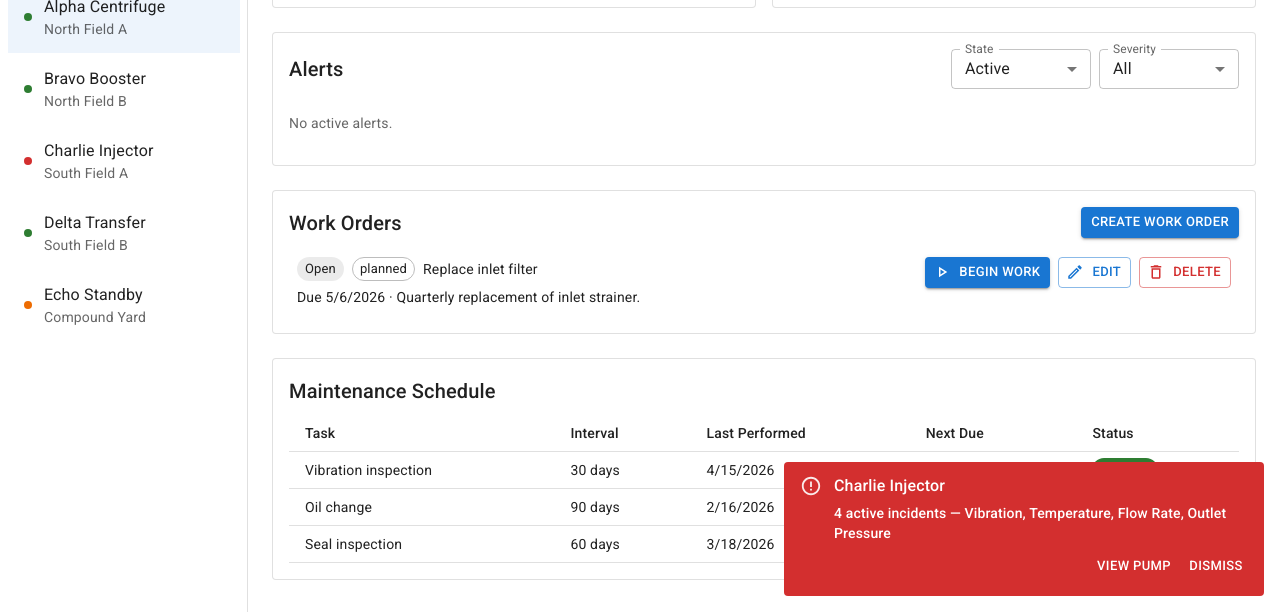
Test: Fleet integration › deletes a work order through the confirm dialog
(page scrolled)
What coordinates should you click on to do the following:
click the button named "delete-"
I would click on:
 (1185, 272)
Its box is [1139, 257, 1231, 288].
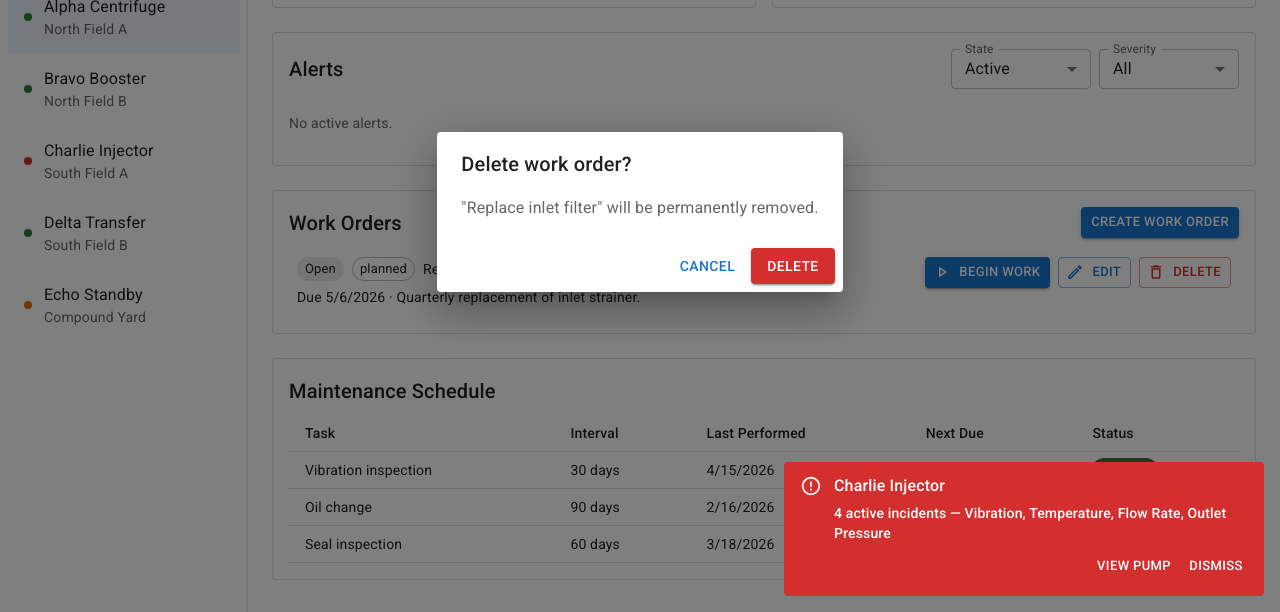
Result: the text "\"Replace inlet filter\" will be permanently removed." is shown at [461, 196, 819, 220]
What coordinates should you click on to do the following:
click the button "Delete"
I would click on:
 (793, 266)
Its box is [751, 248, 835, 284].
(page scrolled)
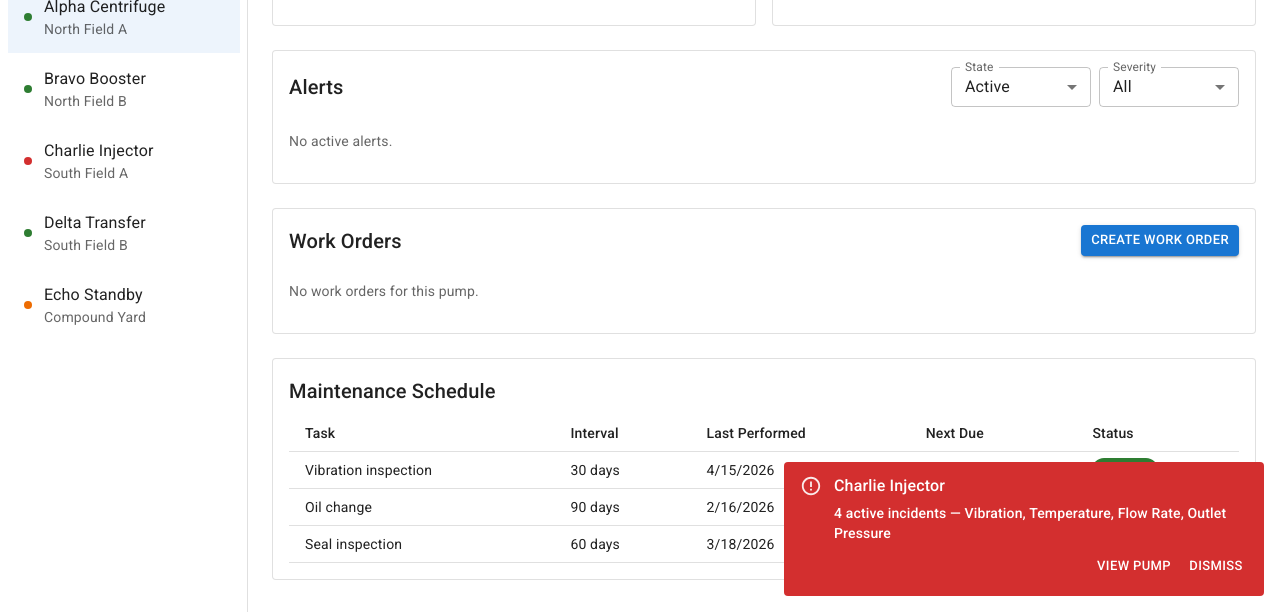
Result: the list item with test id "work-order-wo-0001" is gone
